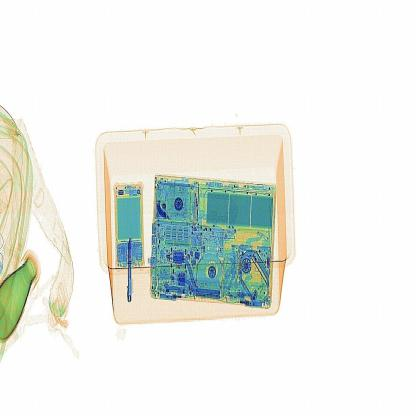pliers: (124, 235, 133, 308)
